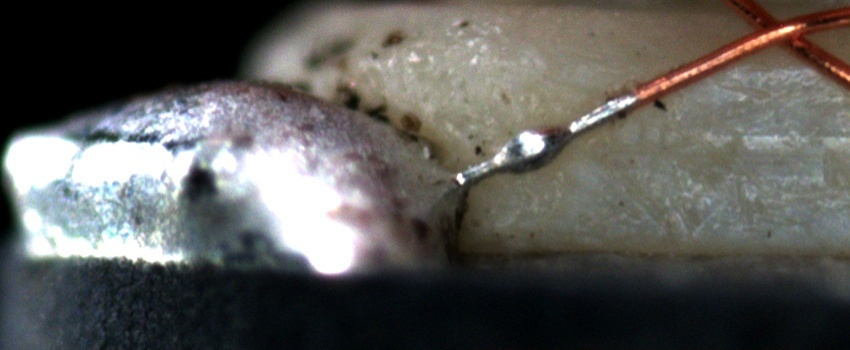CL: (731, 2, 826, 60)
DL: (555, 127, 850, 191), (486, 49, 850, 95)
TB: (484, 121, 583, 176)
TS: (462, 93, 637, 184)
TTCW: (451, 63, 692, 185)
